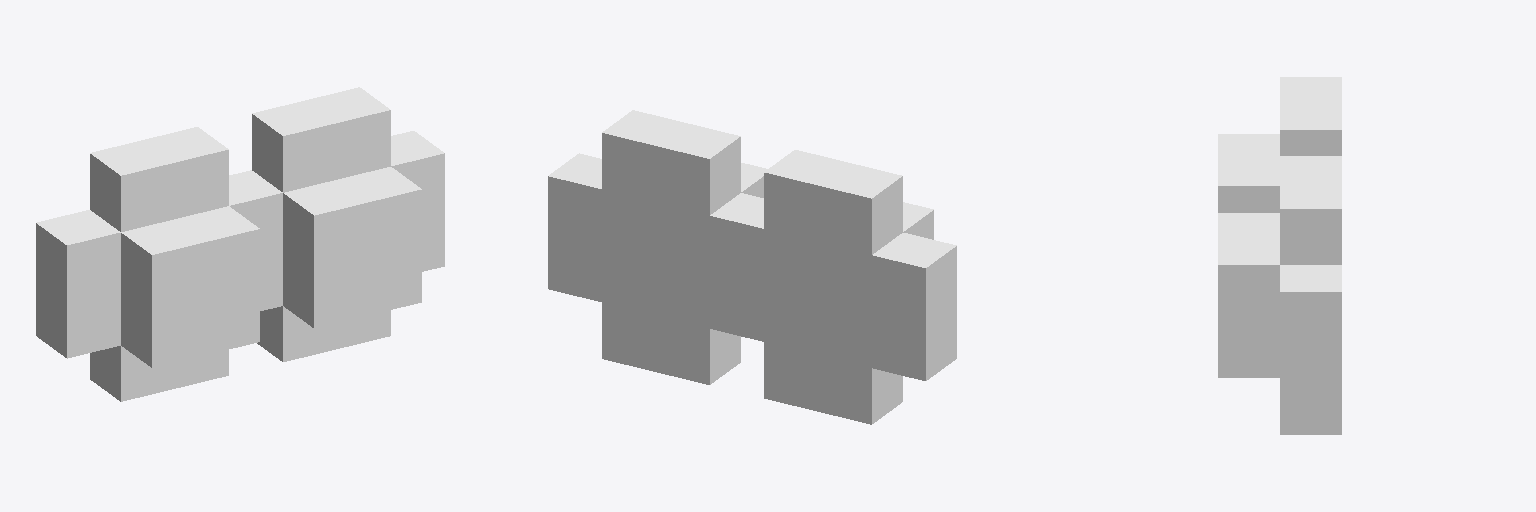
The model's file is breasts.obj.
The picture shows the model from 3 angles: view 1: azimuth 30°, elevation 25°; view 2: azimuth 150°, elevation 25°; view 3: azimuth 270°, elevation 25°; orthographic projection.
Parts seen in each view (by area): view 1: object 1; view 2: object 1; view 3: object 1.
Part boxes in pixels (x1,y1,x2,y2): object 1: (36,87,444,401); object 1: (548,110,956,424); object 1: (1218,77,1341,434).
Size of the model in its own units: 0.7 by 0.4 by 0.2.